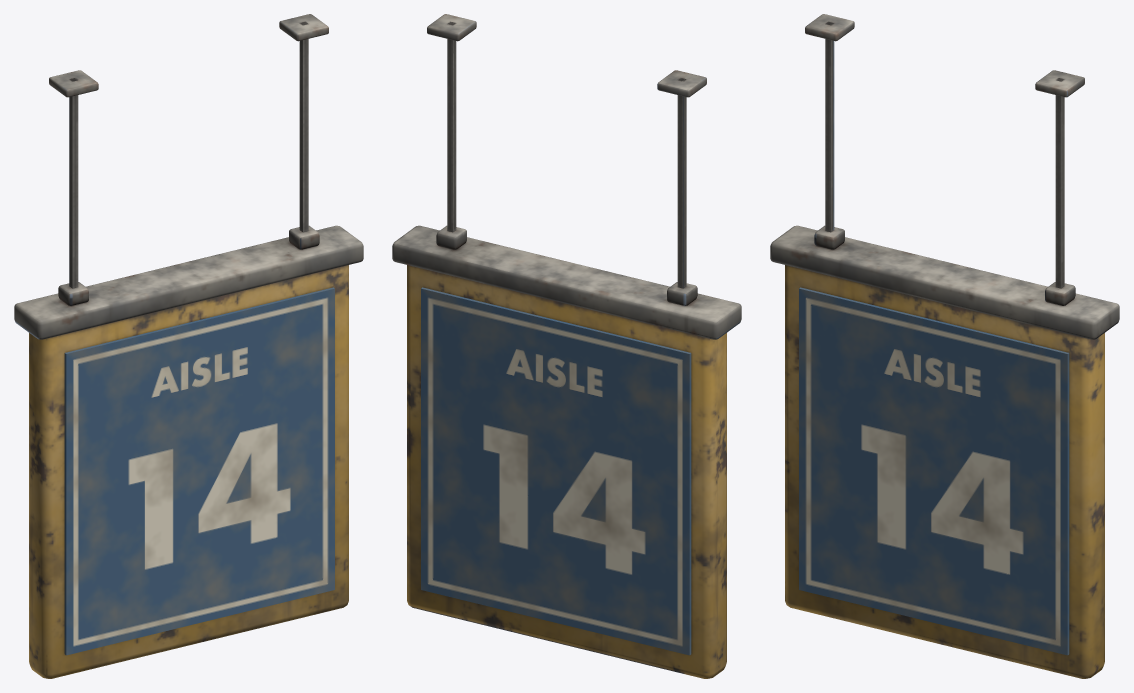
Rendered from aisle_sign_hanging.fbx.
3 renders of one model, left to right at view 1: azimuth 30°, elevation 25°; view 2: azimuth 150°, elevation 25°; view 3: azimuth 330°, elevation 25°, orthographic.
Visible parts, largest first — view 1: Screen, Body; view 2: Screen2, Body; view 3: Screen, Body.
Part boxes in pixels (x1=…): Screen: x1=64, y1=287, x2=334, y2=655; Body: x1=14, y1=14, x2=363, y2=678; Screen2: x1=421, y1=287, x2=691, y2=655; Body: x1=392, y1=14, x2=741, y2=678; Screen: x1=799, y1=287, x2=1069, y2=655; Body: x1=770, y1=14, x2=1119, y2=678.
Bounding box in the file's own units: 3.4 × 5.85 × 0.48.
3 materials, 3 textured.
